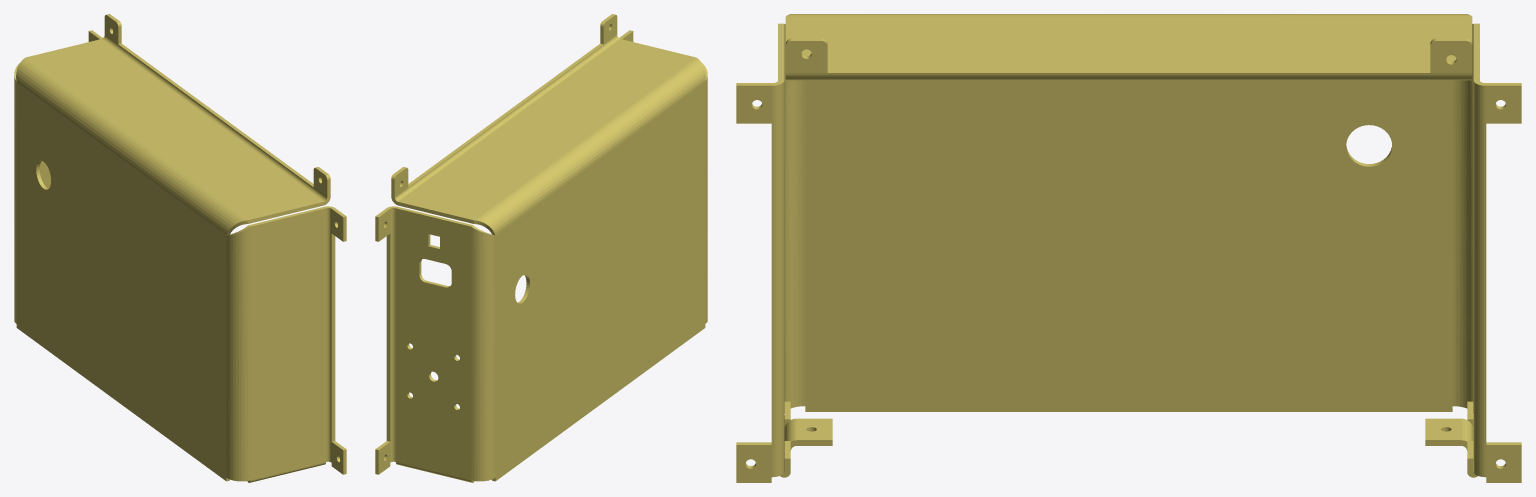
The model's file is batteryenclosure.dae.
3 renders of one model, left to right at view 1: azimuth 30°, elevation 25°; view 2: azimuth 150°, elevation 25°; view 3: azimuth 270°, elevation 25°, orthographic. The views are drawn at different scales.
Parts seen in each view (by area): view 1: robot_assembly_-_battery_enclosure-1; view 2: robot_assembly_-_battery_enclosure-1; view 3: robot_assembly_-_battery_enclosure-1.
Boxes of the visible parts, box(x1,y1,x2,y2) form: robot_assembly_-_battery_enclosure-1: box(14, 14, 346, 482); robot_assembly_-_battery_enclosure-1: box(375, 14, 707, 482); robot_assembly_-_battery_enclosure-1: box(736, 14, 1521, 482).
Bounding box in the file's own units: 0.0835 × 0.376 × 0.2335.
